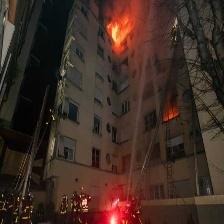fire: (104, 14, 136, 46)
